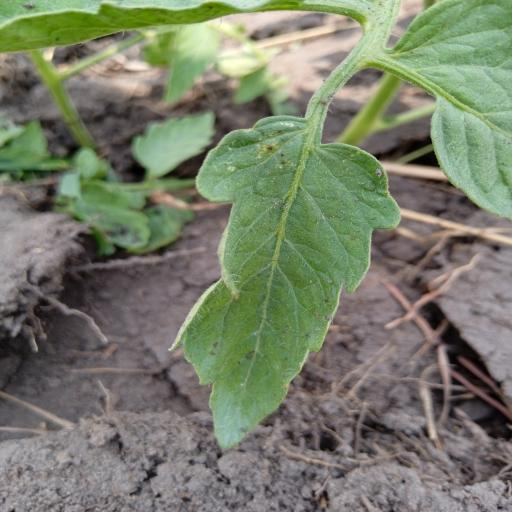Tomato_Mildiou: (161, 112, 404, 462)
